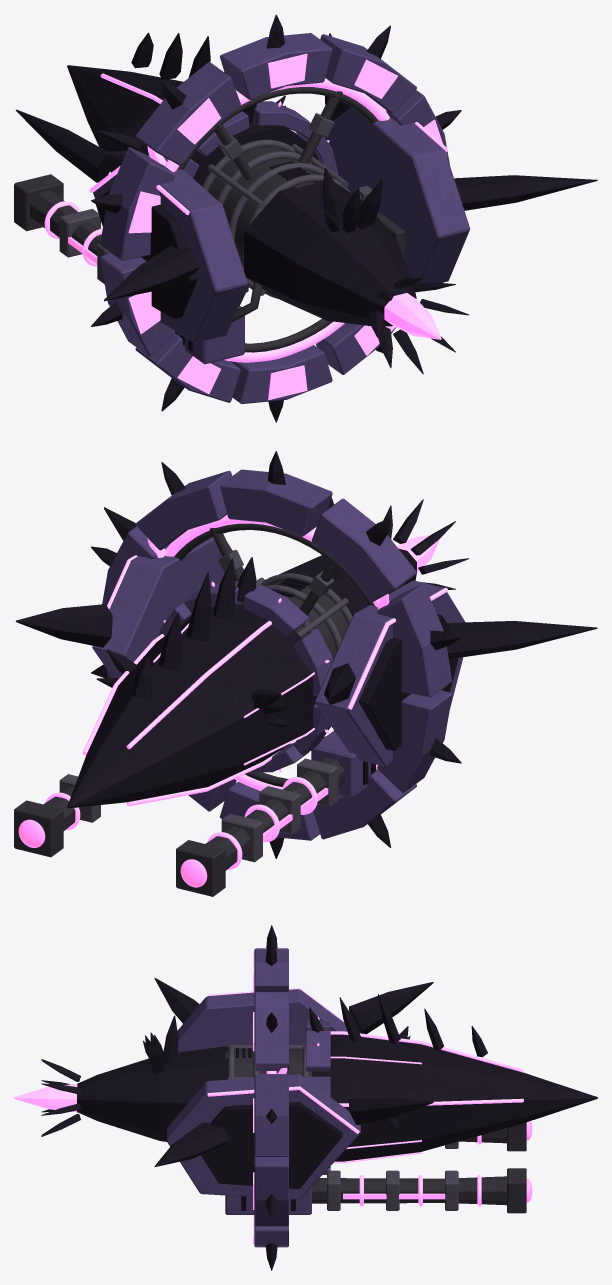
Rendered from spireguard.glb.
The picture shows the model from 3 angles, top to bottom: view 1: azimuth 30°, elevation 25°; view 2: azimuth 150°, elevation 25°; view 3: azimuth 270°, elevation 25°; orthographic projection. The views are drawn at different scales.
Parts seen in each view (by area): view 1: Spireguard.001; view 2: Spireguard.001; view 3: Spireguard.001.
Part boxes in pixels (x1,y1,x2,y2): Spireguard.001: (14,14,597,422); Spireguard.001: (14,451,597,896); Spireguard.001: (14,925,597,1270).
Bounding box in the file's own units: 5.21 × 4.1 × 6.81.
Materials: 7 (7 with a texture image).
